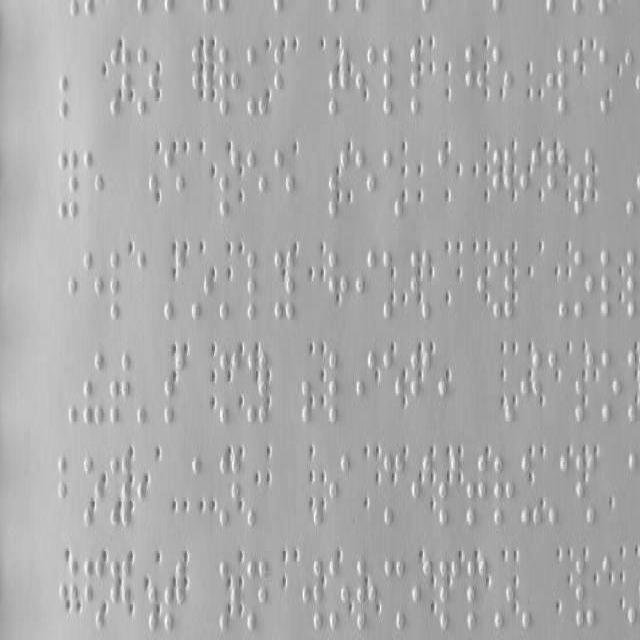braiile: (273, 44, 297, 120), (245, 246, 269, 322), (327, 350, 351, 423), (217, 42, 239, 118), (245, 44, 267, 120), (82, 148, 104, 224), (246, 558, 268, 634), (136, 45, 158, 119), (492, 248, 514, 322), (465, 452, 487, 526), (492, 454, 514, 528), (574, 556, 596, 630), (382, 44, 404, 116), (546, 46, 568, 118), (82, 251, 104, 322), (355, 249, 377, 320), (572, 249, 594, 320), (328, 556, 348, 634), (467, 556, 488, 630), (57, 454, 79, 524), (356, 348, 376, 424), (382, 348, 402, 424), (600, 348, 620, 424), (220, 453, 240, 529), (411, 558, 431, 634), (218, 150, 240, 219), (246, 150, 268, 219), (274, 148, 294, 222), (110, 352, 130, 426), (302, 558, 322, 632), (328, 456, 349, 526), (58, 150, 78, 223), (464, 44, 484, 116), (355, 149, 375, 220), (110, 251, 130, 322), (136, 249, 156, 320), (600, 249, 620, 320), (546, 148, 566, 216), (164, 148, 183, 216)
